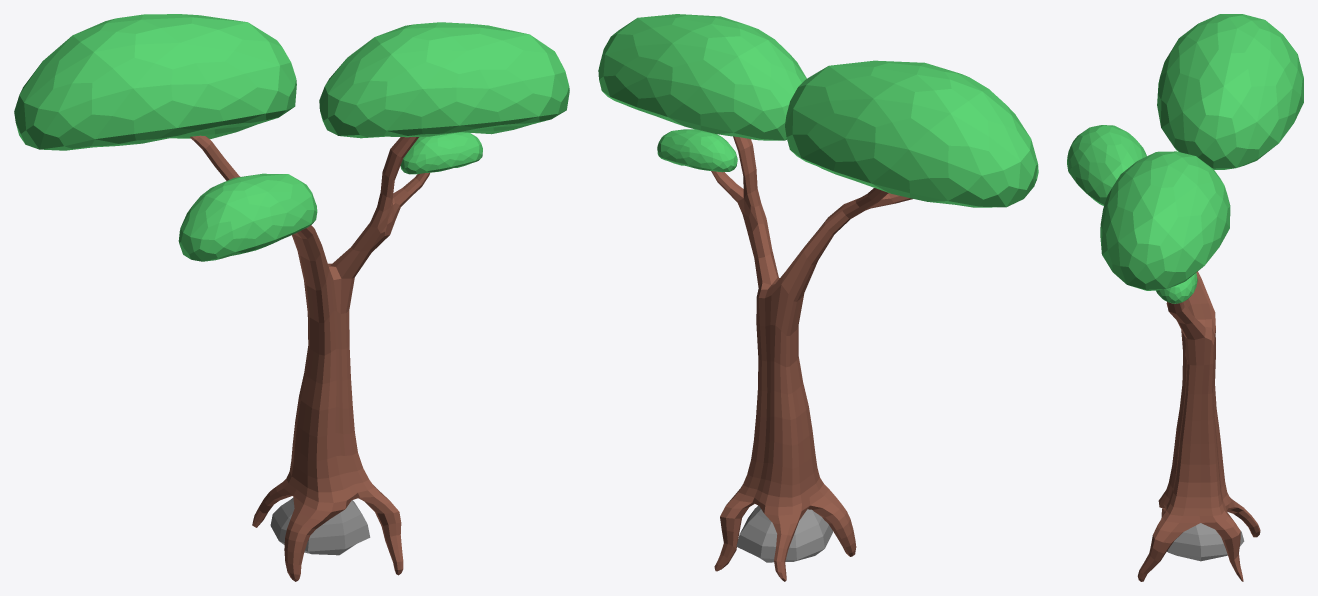
File: Tree.fbx
The picture shows the model from 3 angles, left to right: view 1: azimuth 30°, elevation 25°; view 2: azimuth 150°, elevation 25°; view 3: azimuth 270°, elevation 25°; orthographic projection. The views are drawn at different scales.
Parts seen in each view (by area): view 1: Tree; view 2: Tree; view 3: Tree.
Boxes of the visible parts, x1,y1,x2,y2 form: Tree: [14, 14, 569, 581]; Tree: [598, 14, 1038, 581]; Tree: [1067, 14, 1303, 581].
Size of the model in its own units: 1189 by 1306 by 595.
